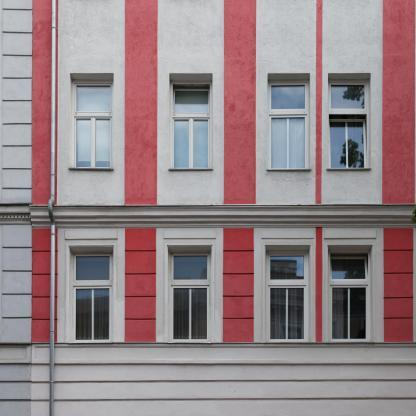Building Outline: (0, 0, 415, 415)
Cornice: (324, 230, 377, 239), (65, 230, 118, 239), (164, 230, 217, 239), (261, 230, 314, 239)
Facade: (29, 1, 415, 416)
Floor: (33, 1, 416, 204), (33, 212, 416, 391)
Floor Slab: (33, 204, 416, 212), (33, 391, 416, 399)
Pillar: (383, 0, 416, 342), (125, 0, 157, 342), (223, 0, 255, 342), (29, 204, 416, 229), (32, 0, 59, 342), (316, 0, 321, 342)
Window: (329, 253, 371, 342), (170, 253, 212, 342), (268, 253, 310, 342), (329, 79, 371, 168), (170, 79, 212, 168), (268, 79, 310, 168), (72, 253, 113, 342), (72, 79, 113, 168)
